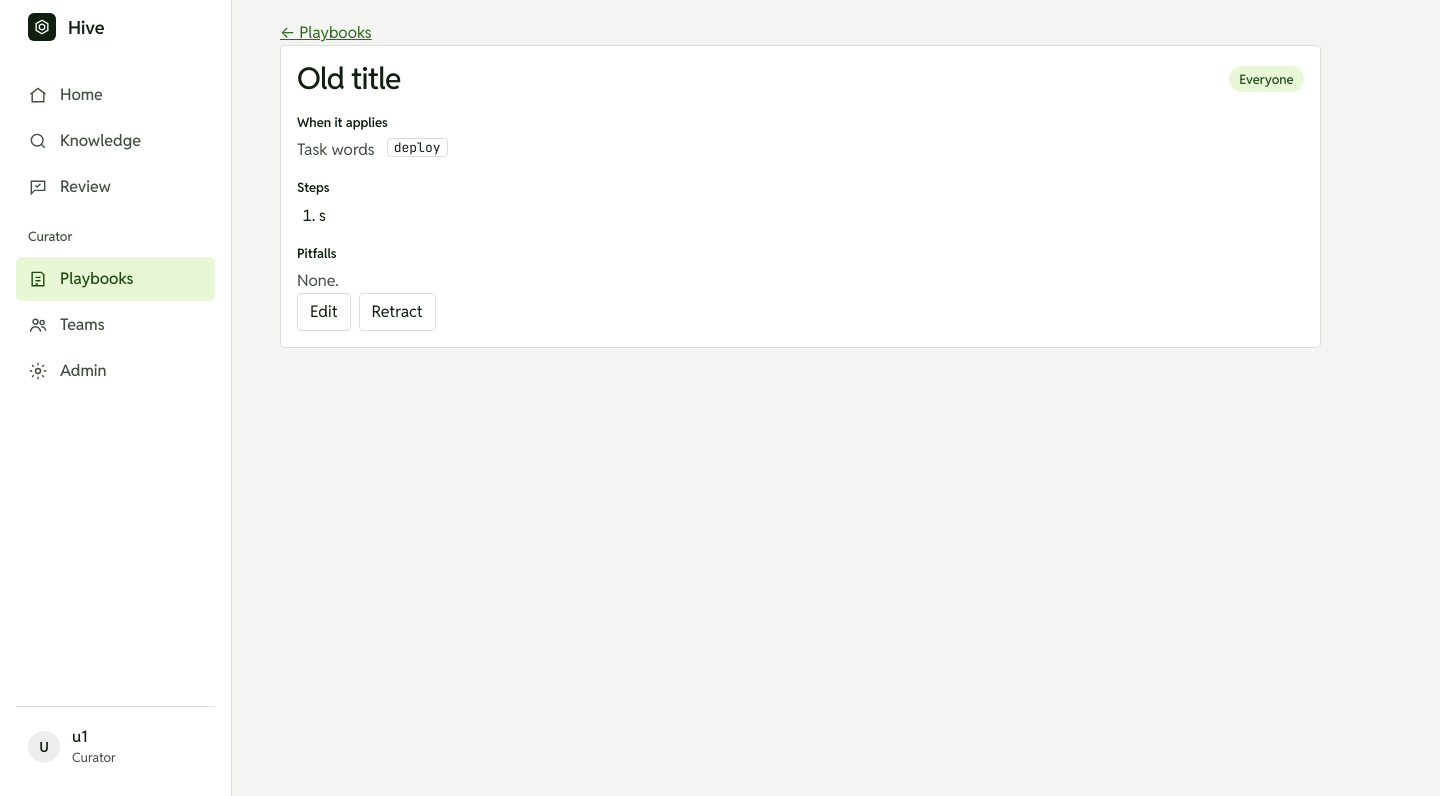
Test: playbooks › edit sends PUT and shows 'version of' the old one
This screenshot has width=1440, height=796.
Click the button "Edit" at coordinates (324, 312), box x1=297 y1=293 x2=351 y2=331
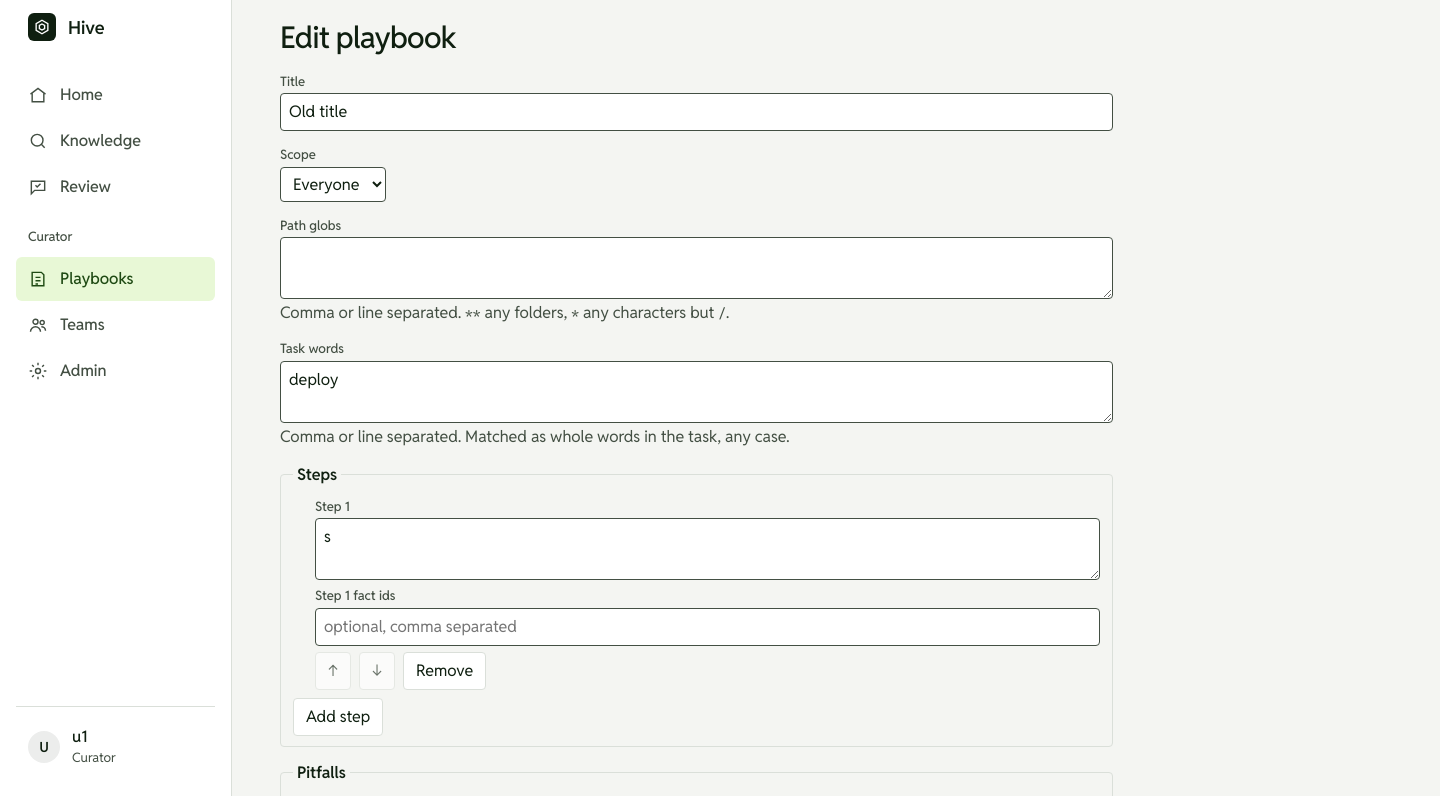
Check: the field labelled "Title" holds "Old title"
Replace the text in the field labelled "Title" with "New title" at coordinates (696, 112), box x1=280 y1=93 x2=1112 y2=131
(page scrolled)
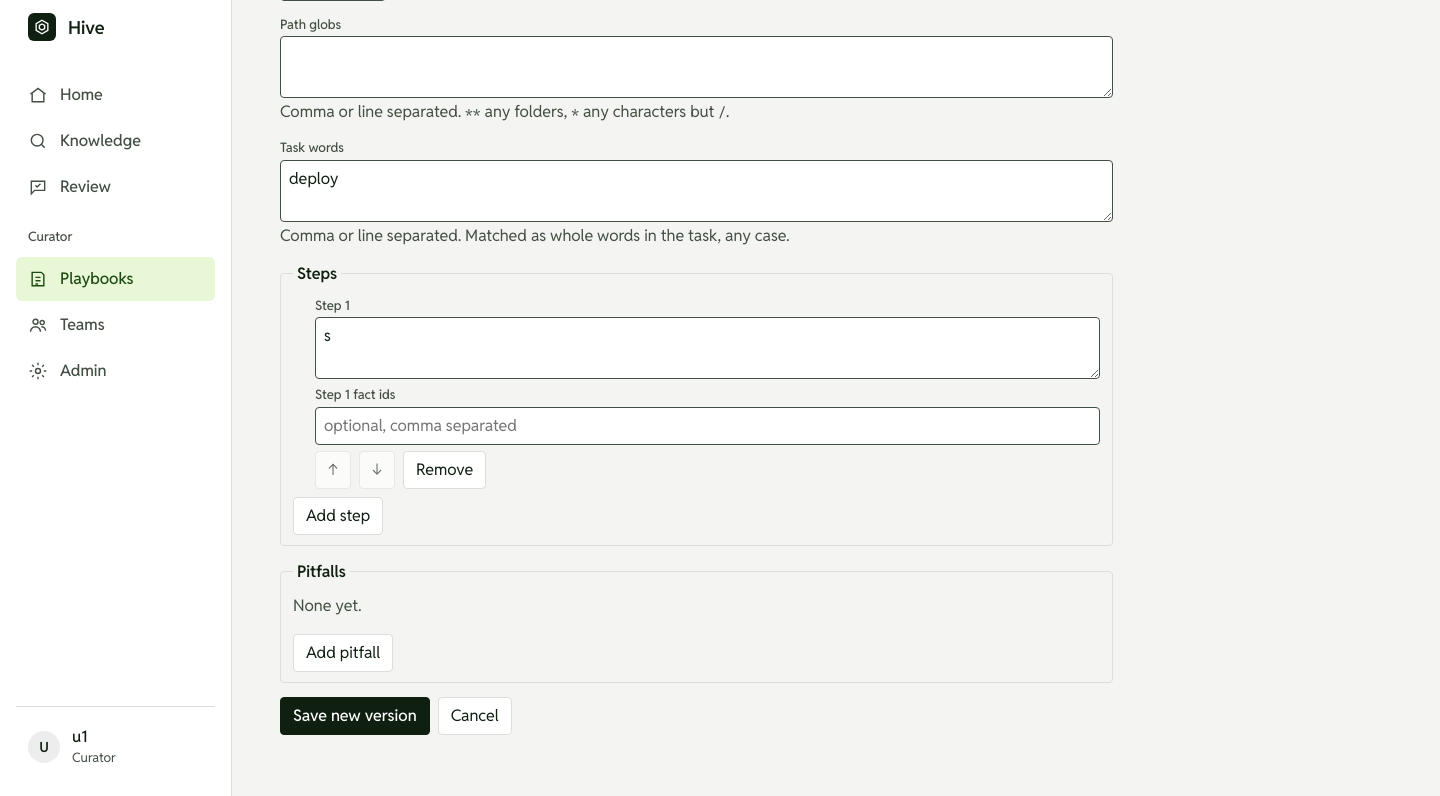
Click the button "Save new version" at coordinates (355, 716), box x1=280 y1=696 x2=430 y2=734
(page scrolled)
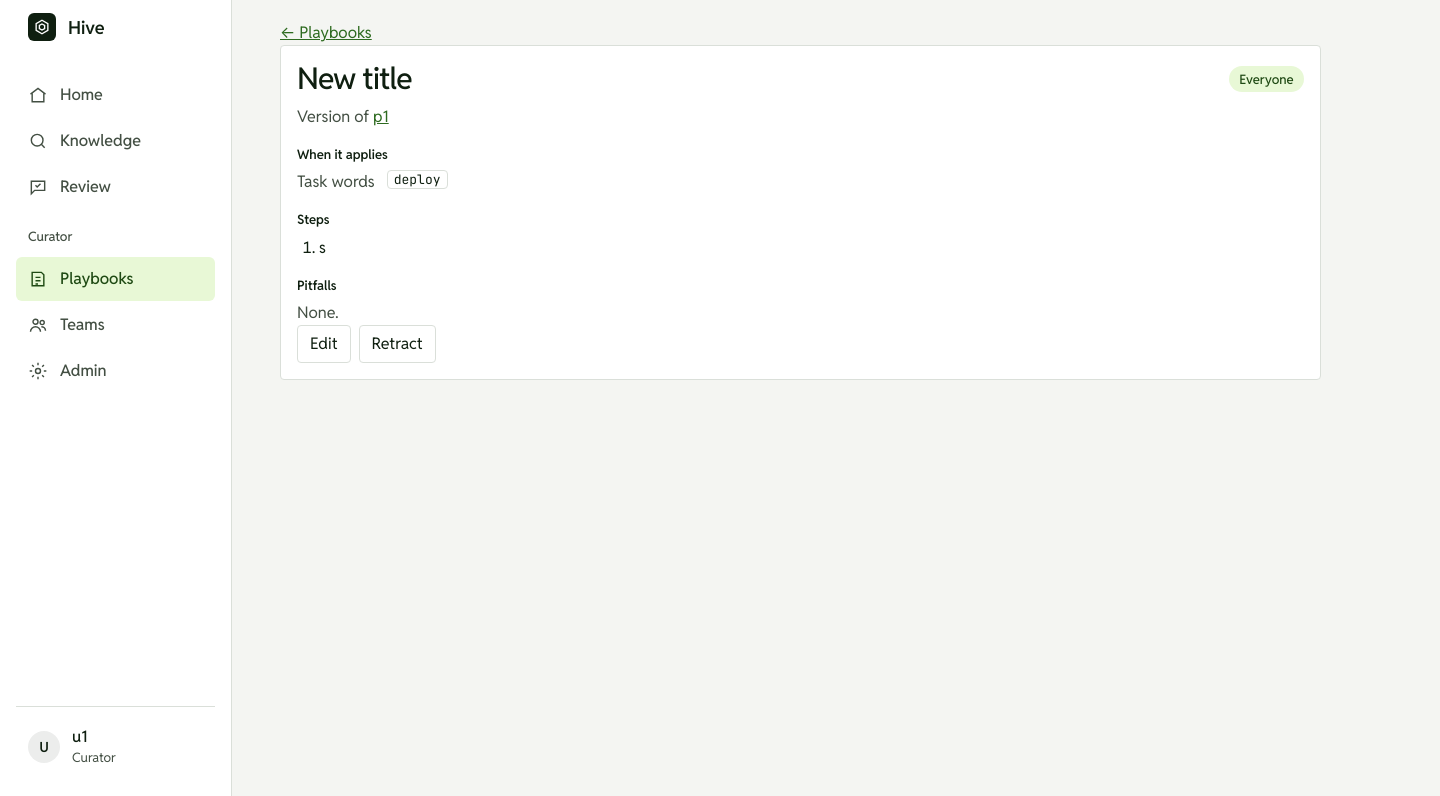
Check: the heading "New title" is shown, box x1=297 y1=62 x2=412 y2=96
Check: the text "Version of p1" is shown, box x1=297 y1=106 x2=389 y2=126
